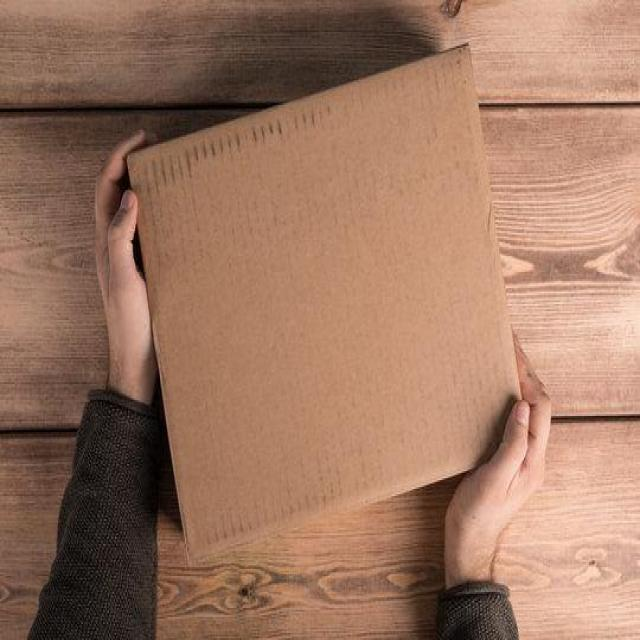box: (127, 33, 528, 560)
